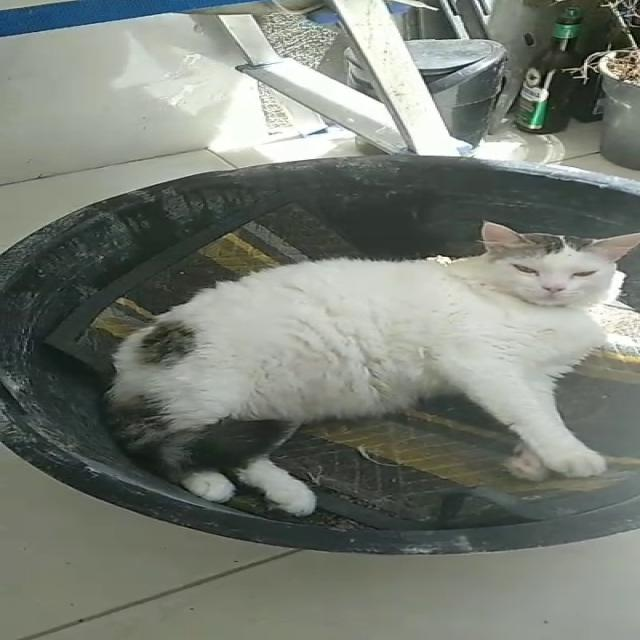Simba: (62, 215, 638, 507)
